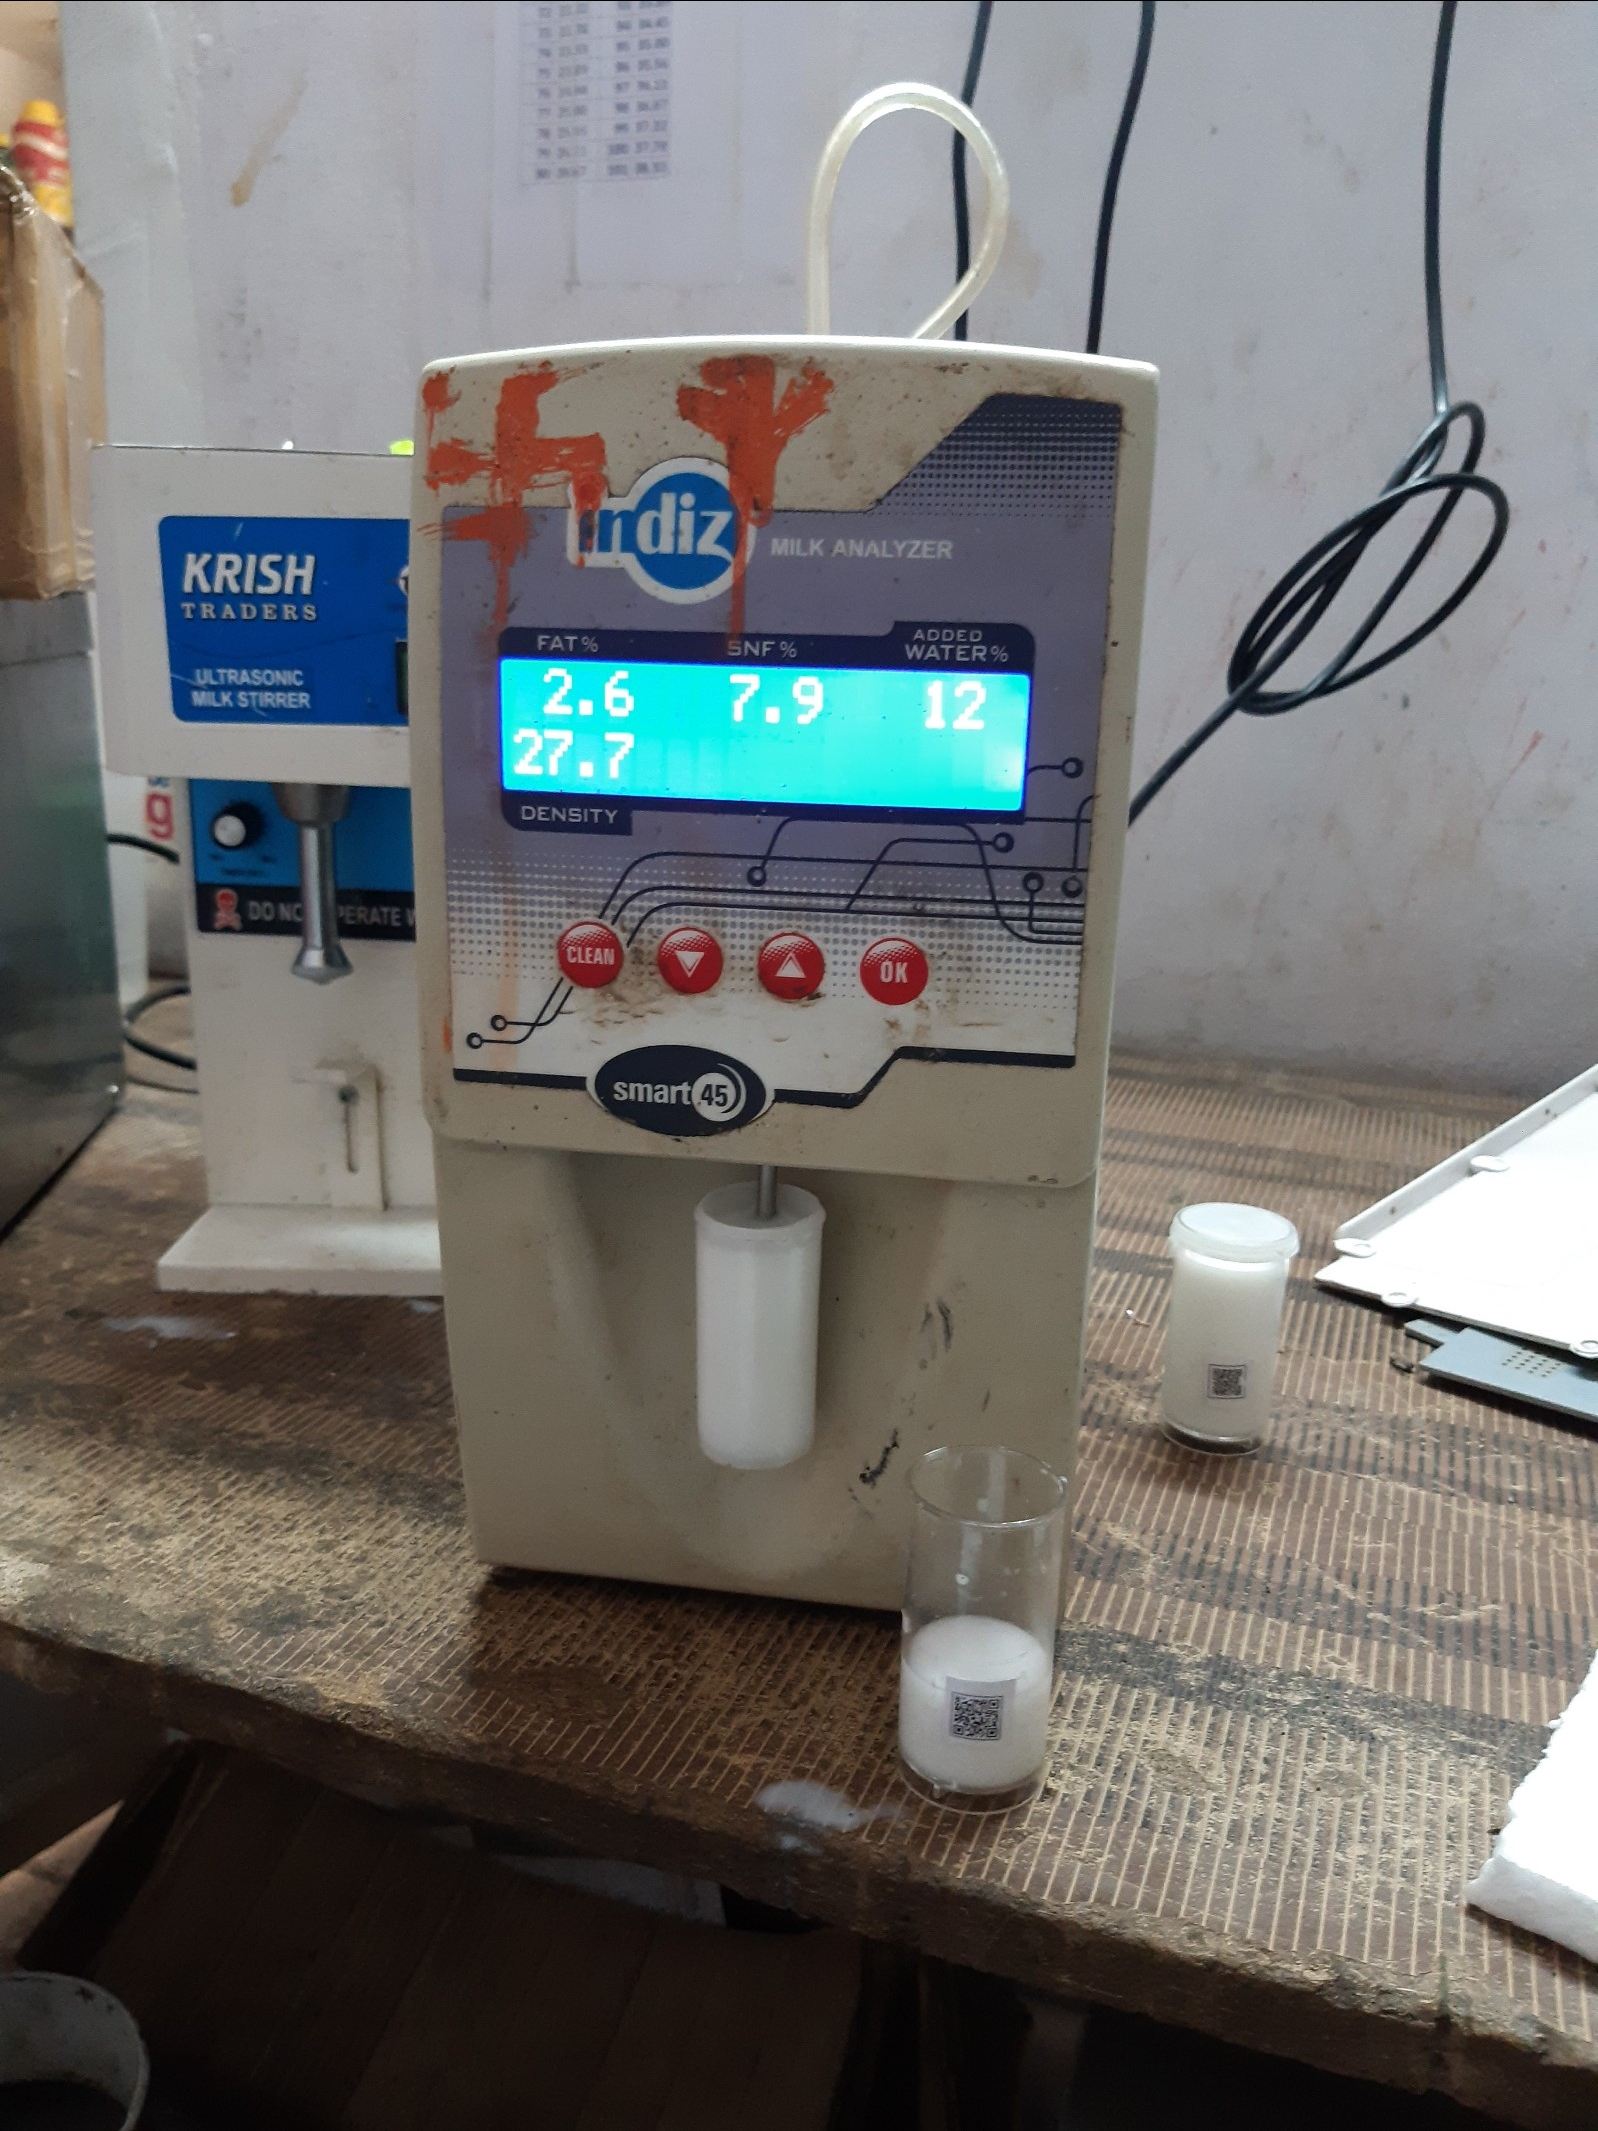lcd: (493, 649, 1047, 821)
qr: (942, 1681, 1022, 1752)
